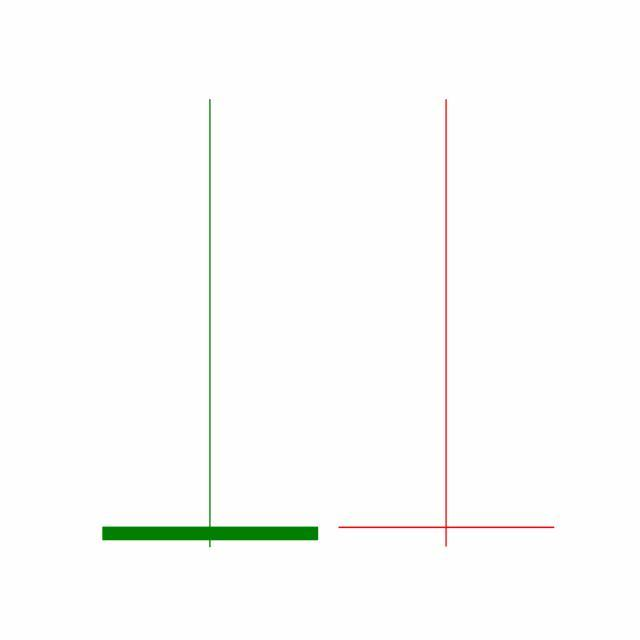Gravestone Doji: (328, 94, 566, 552)
